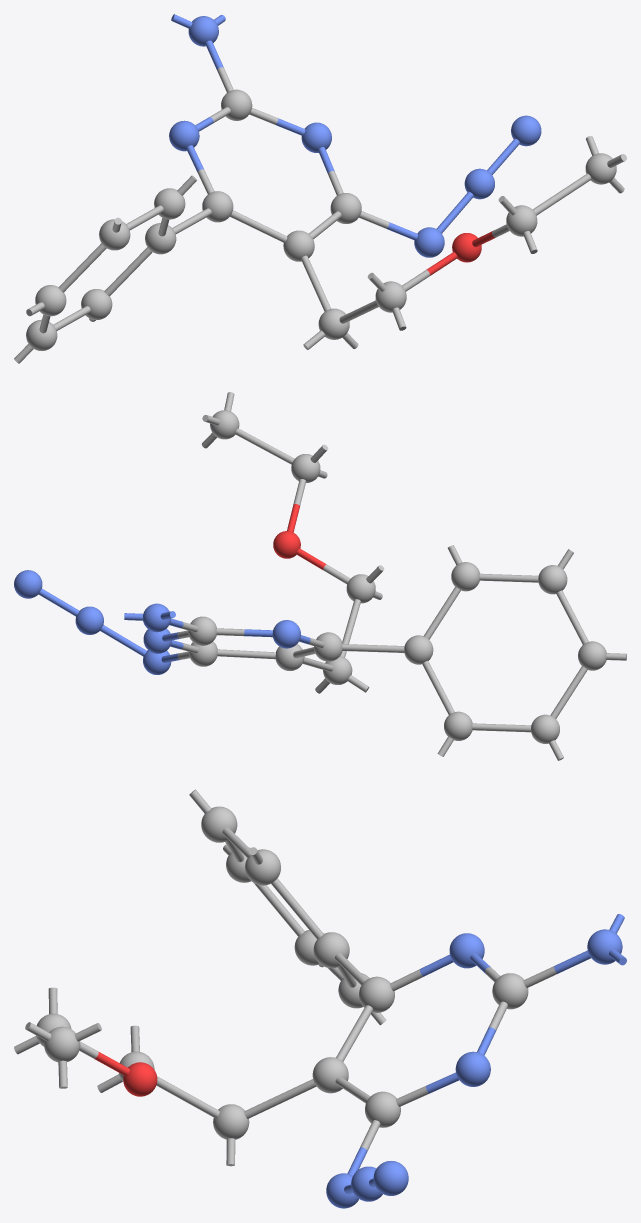
The model's file is PET.glb.
3 views of the same model, one above another, from view 1: azimuth 30°, elevation 25°; view 2: azimuth 150°, elevation 25°; view 3: azimuth 270°, elevation 25° (orthographic). The views are drawn at different scales.
Parts seen in each view (by area): view 1: Carbon_ball (×14), Nitrogen_ball (×6), Oxygen_ball; view 2: Carbon_ball (×9), Nitrogen_ball (×5), Oxygen_ball; view 3: Carbon_ball (×8), Nitrogen_ball (×6), Oxygen_ball.
Part boxes in pixels (box(x1,y1,x2,y2)): Carbon_ball (×14): box(26, 89, 616, 350); Nitrogen_ball (×6): box(169, 16, 541, 257); Oxygen_ball: box(452, 233, 481, 262); Carbon_ball (×9): box(188, 562, 606, 743); Nitrogen_ball (×5): box(14, 570, 300, 653); Oxygen_ball: box(273, 531, 300, 558); Carbon_ball (×8): box(44, 806, 528, 1132); Nitrogen_ball (×6): box(326, 929, 622, 1208); Oxygen_ball: box(123, 1062, 157, 1096).
Bounding box in the file's own units: 10.05 × 3.52 × 7.93.
